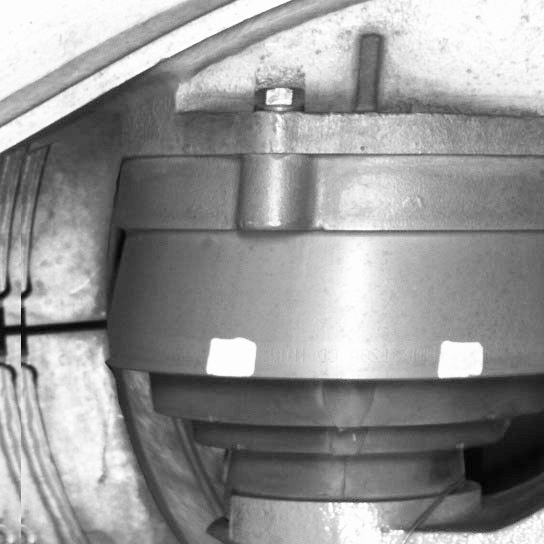ClosedKnifeSwitch: (24, 157, 241, 541)
